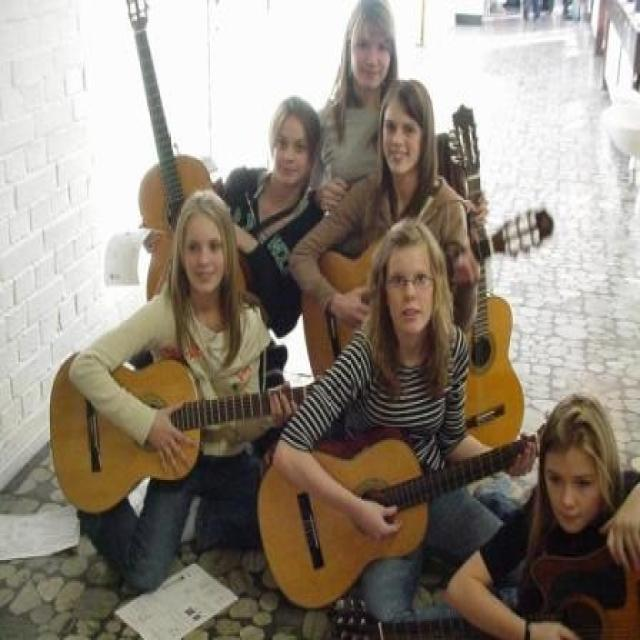guitar: (257, 423, 579, 614), (304, 207, 561, 376), (50, 349, 307, 515), (122, 0, 251, 314), (335, 539, 640, 640), (448, 100, 528, 451)
